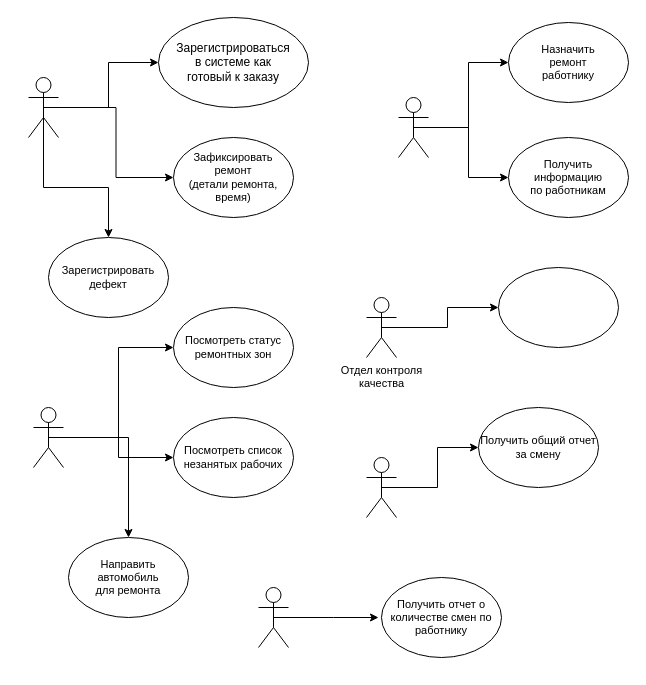
Some shapes in this 646 by 685 pixel diagram are drawn without their labels. Each missing label, with the centre of its shape:
"Бригадир" belongs at (413,127).
"Бухгалетерия" belongs at (273,617).
"Диспетчер" belongs at (48,437).
"Начальник цеха" belongs at (381,487).
"Получить отчет за смену по участку" belongs at (558,307).
"Работник" belongs at (43,107).
